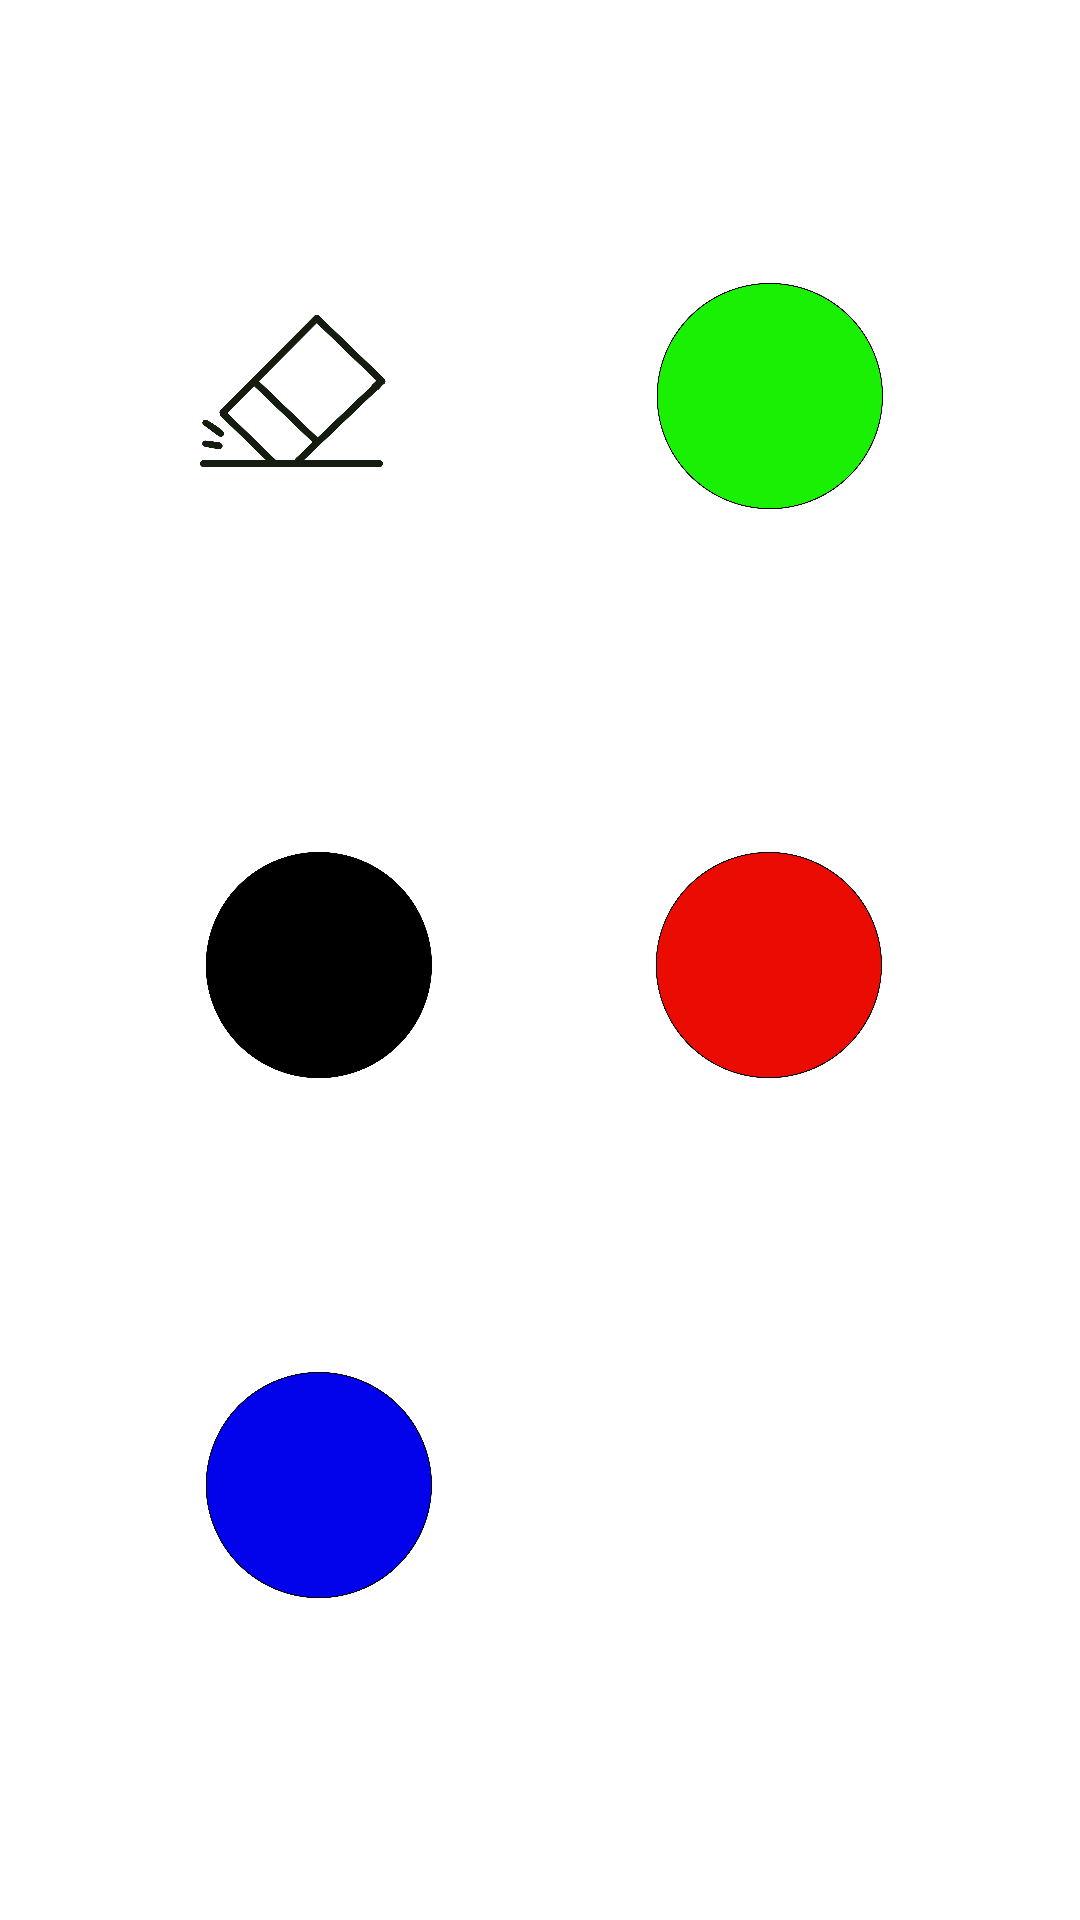

Icons on this 1080 × 1920 Android screen, each with its box as (x1, y1, x2, y2):
eraser: (200, 315, 386, 467)
